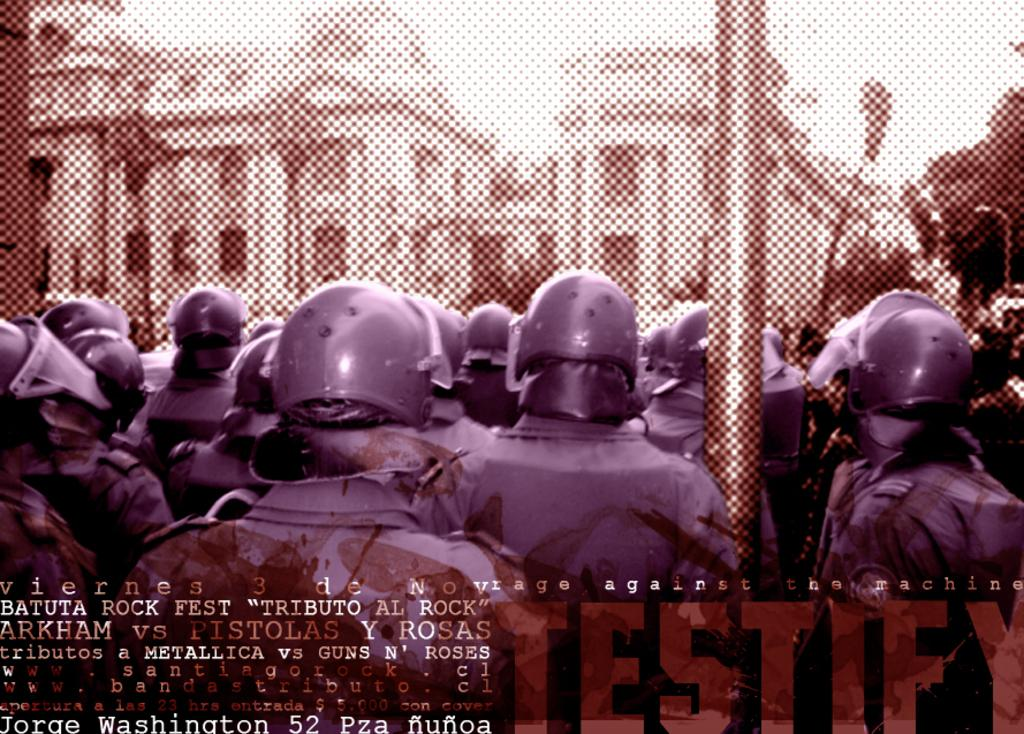helmet: (272, 282, 453, 439), (807, 292, 974, 430), (506, 270, 639, 393), (0, 314, 112, 455), (51, 328, 148, 434), (233, 330, 321, 416), (665, 307, 744, 387), (167, 286, 249, 354), (465, 303, 518, 357)
